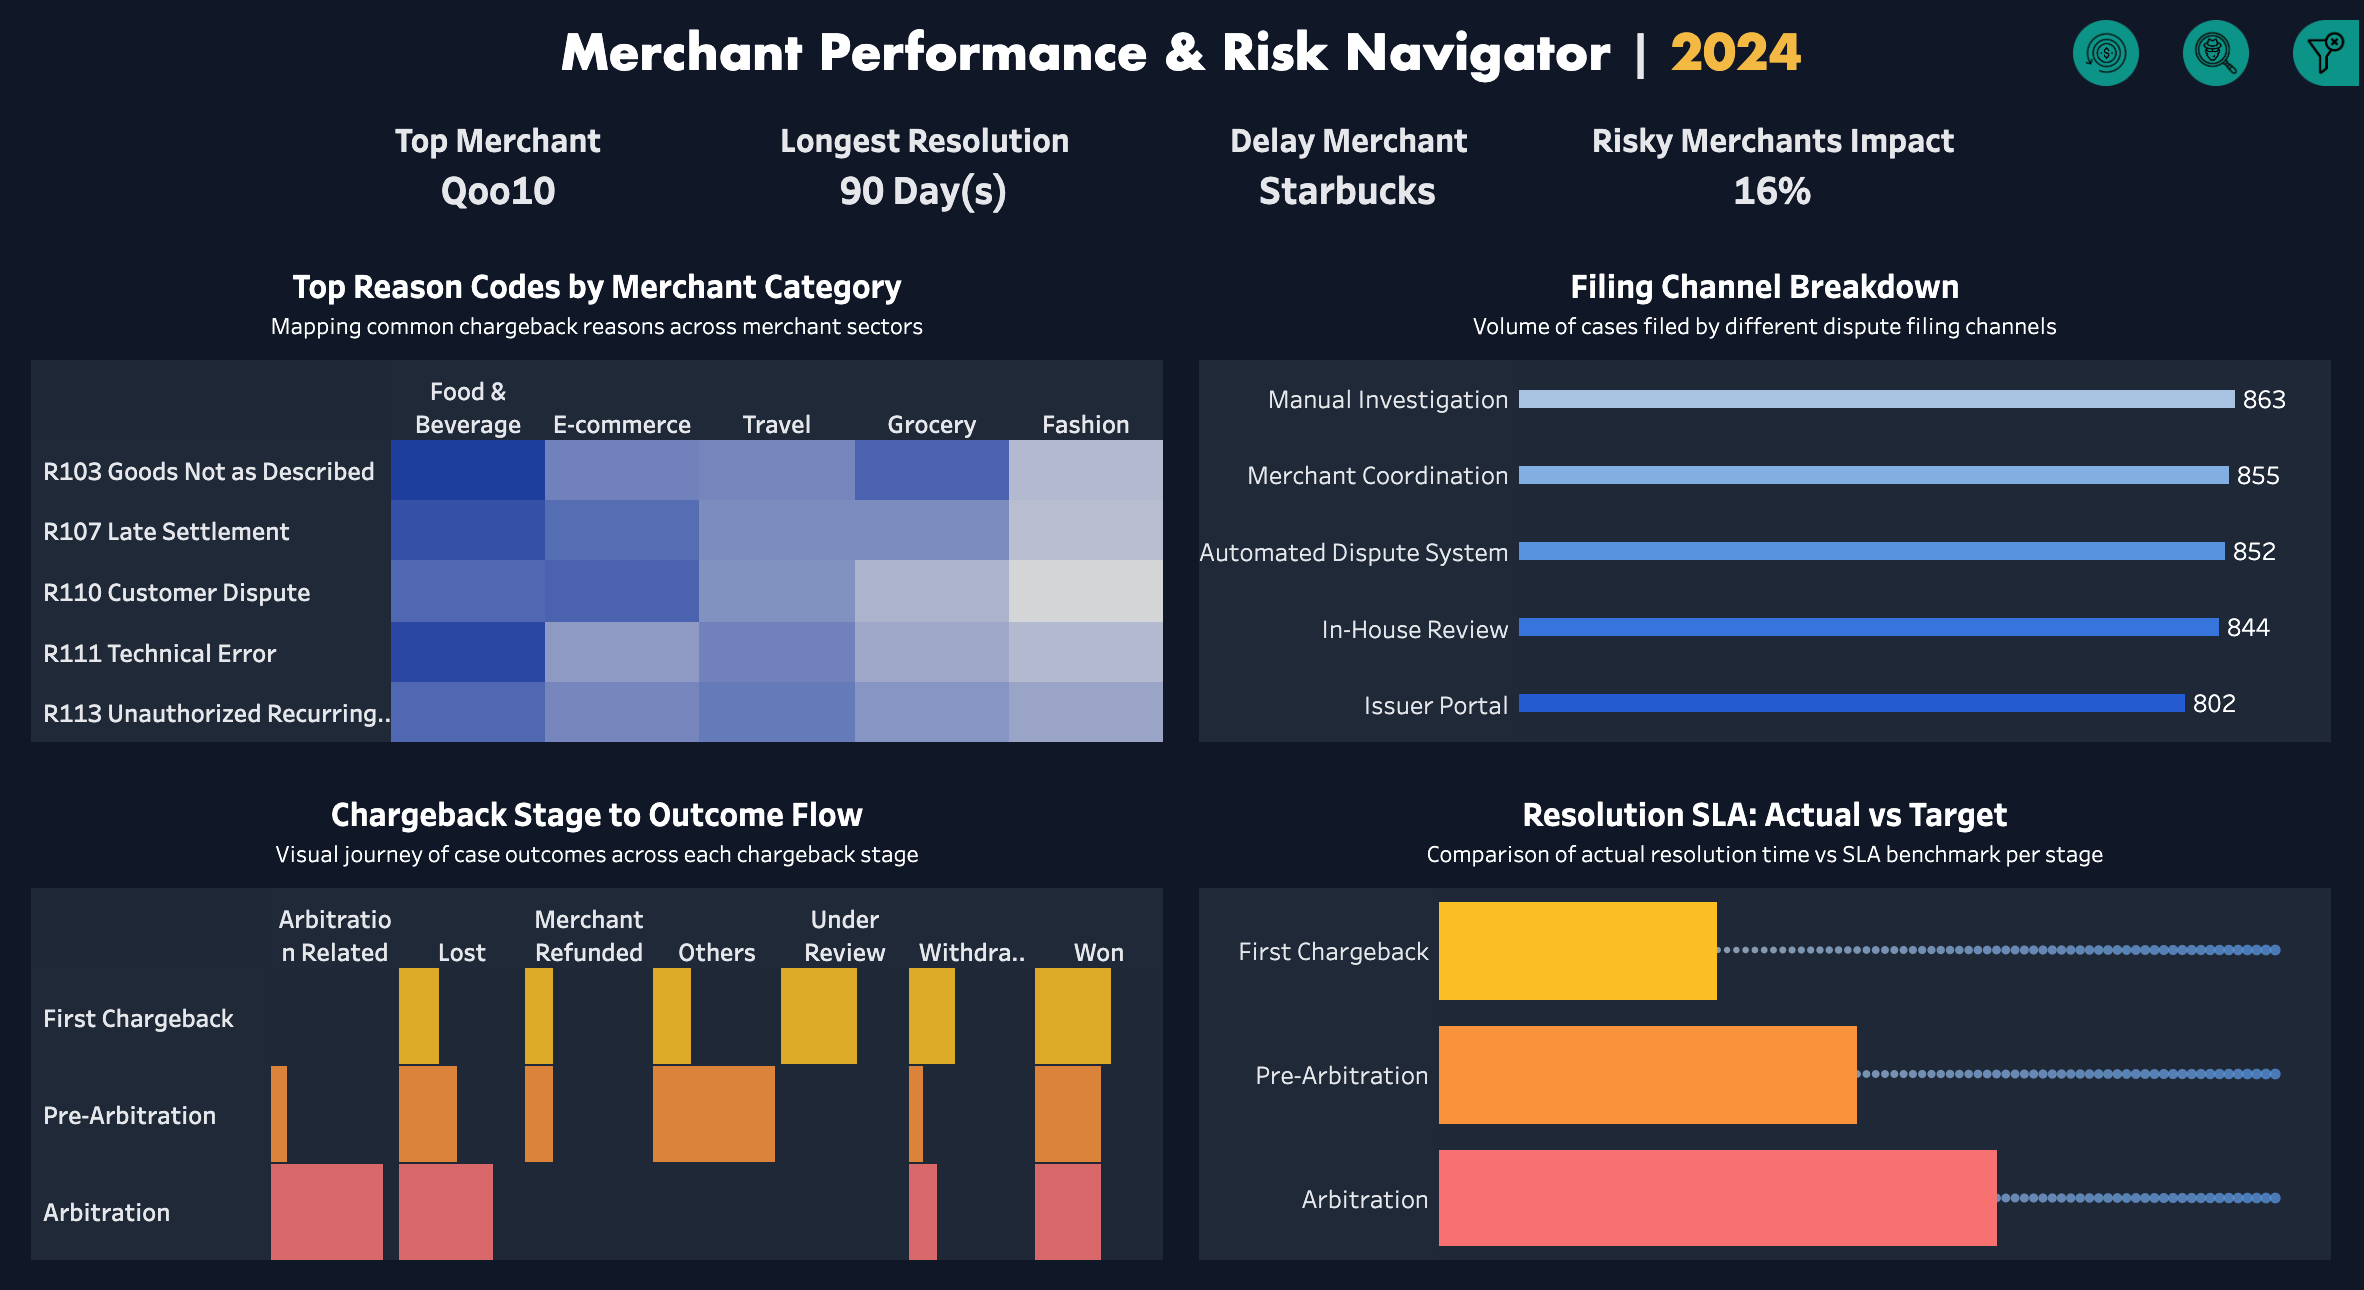

The page's visual inventory and layout, read from the dashboard file:
{"tool":"tableau","page":{"name":"Merchant Performance & Risk Navigator","canvas":[1000,1000],"units":"permille","ordinal":2},"visuals":[{"type":"text","box":[6.7,10,986.7,84.8]},{"type":"blank","box":[862.5,10,130,156.2]},{"type":"dashboard-object","box":[866.7,31.2,37.5,50]},{"type":"dashboard-object","box":[912.5,31.2,37.5,50]},{"type":"dashboard-object","box":[958.3,31.2,37.5,50]},{"type":"worksheet","title":"Top Merchant (Win Rate)","mark":"Automatic","box":[127.5,95,177.5,88.8]},{"type":"worksheet","title":"Longest Resolution","mark":"Automatic","box":[305,95,176.7,88.8]},{"type":"worksheet","title":"Delay Merchant","mark":"Automatic","box":[481.7,95,176.7,88.8]},{"type":"worksheet","title":"Risky Merchants Impact","mark":"Automatic","box":[658.3,95,176.7,88.8]},{"type":"text","box":[862.5,166.2,130,31.2]},{"type":"worksheet","title":"Top Reason Codes by Merchant Category","mark":"Square","rows":["Reason Code"],"cols":["Merchant Category"],"box":[6.7,183.8,493.3,403.8]},{"type":"worksheet","title":"Filing Channel Breakdown","mark":"Automatic","rows":["Resolution Channel"],"cols":["Chargeback Reference Number"],"box":[500,183.8,493.3,403.8]},{"type":"parameter","param":"[Parameters].[Parameter 1]","box":[862.5,197.5,130,135]},{"type":"text","box":[862.5,332.5,130,31.2]},{"type":"filter","title":"Chargeback Stage to Outcome Flow","param":"[federated.0wuc5fv0nmrn7l1etpsh61x213hc].[none:Chargeback Stage:nk]","box":[862.5,363.8,130,136.2]},{"type":"text","box":[862.5,500,130,31.2]},{"type":"filter","title":"Top Reason Codes by Merchant Category","param":"[federated.0wuc5fv0nmrn7l1etpsh61x213hc].[none:Merchant Category:nk]","box":[862.5,531.2,130,135]},{"type":"worksheet","title":"Chargeback Stage to Outcome Flow","mark":"Bar","rows":["Chargeback Stage"],"cols":["Calculation_2693645189081878529"],"box":[6.7,587.5,493.3,402.5]},{"type":"worksheet","title":"Resolution SLA: Actual vs Target","mark":"GanttBar","rows":["Chargeback Stage"],"cols":["Days to Resolve","Calculation_2732840579592314880"],"box":[500,587.5,493.3,402.5]},{"type":"text","box":[862.5,666.2,130,31.2]},{"type":"filter","title":"Top Reason Codes by Merchant Category","param":"[federated.0wuc5fv0nmrn7l1etpsh61x213hc].[none:Reason Code:nk]","box":[862.5,697.5,130,42.5]}]}

Visuals, with their boxes on the dashboard's canvas, which has no fixed pixel size, in thousandths of its width and height (x1, y1, x2, y2). These are canvas units, not pixel positions in the 2364x1290 screenshot, which may show the page scaled, cropped or inside an application window:
text: x1=7, y1=10, x2=993, y2=95
blank: x1=862, y1=10, x2=992, y2=166
dashboard-object: x1=867, y1=31, x2=904, y2=81
dashboard-object: x1=912, y1=31, x2=950, y2=81
dashboard-object: x1=958, y1=31, x2=996, y2=81
"Top Merchant (Win Rate)" worksheet: x1=128, y1=95, x2=305, y2=184
"Longest Resolution" worksheet: x1=305, y1=95, x2=482, y2=184
"Delay Merchant" worksheet: x1=482, y1=95, x2=658, y2=184
"Risky Merchants Impact" worksheet: x1=658, y1=95, x2=835, y2=184
text: x1=862, y1=166, x2=992, y2=197
"Top Reason Codes by Merchant Category" worksheet (Square marks): x1=7, y1=184, x2=500, y2=588
"Filing Channel Breakdown" worksheet: x1=500, y1=184, x2=993, y2=588
parameter: x1=862, y1=198, x2=992, y2=332
text: x1=862, y1=332, x2=992, y2=364
"Chargeback Stage to Outcome Flow" filter: x1=862, y1=364, x2=992, y2=500
text: x1=862, y1=500, x2=992, y2=531
"Top Reason Codes by Merchant Category" filter: x1=862, y1=531, x2=992, y2=666
"Chargeback Stage to Outcome Flow" worksheet (Bar marks): x1=7, y1=588, x2=500, y2=990
"Resolution SLA: Actual vs Target" worksheet (GanttBar marks): x1=500, y1=588, x2=993, y2=990
text: x1=862, y1=666, x2=992, y2=697
"Top Reason Codes by Merchant Category" filter: x1=862, y1=698, x2=992, y2=740
